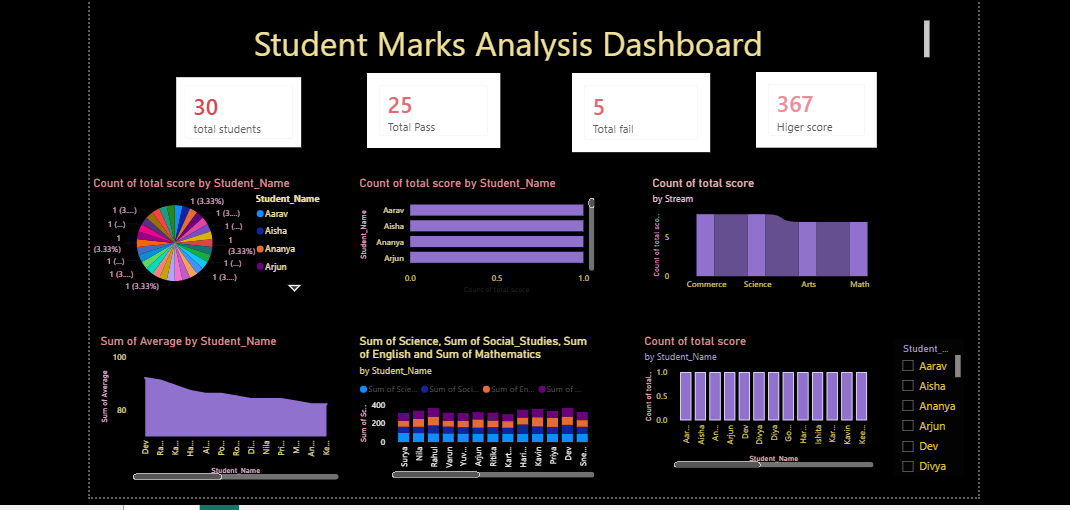

What the dashboard file says about the page in this screenshot:
{"tool":"powerbi","page":{"name":"Page 1","canvas":[1280,720],"ordinal":0},"visuals":[{"type":"pieChart","fields":{"Category":["student_marks_dataset_200.Student_Name"],"Y":["CountNonNull(student_marks_dataset_200.total score)"]},"box":[0,257.8,352.8,174.2],"z":0},{"type":"areaChart","fields":{"Category":["student_marks_dataset_200.Student_Name"],"Y":["Sum(student_marks_dataset_200.Average)"]},"box":[10.1,485.3,352.8,214.6],"z":1000},{"type":"barChart","fields":{"Category":["student_marks_dataset_200.Student_Name"],"Y":["CountNonNull(student_marks_dataset_200.total score)"]},"box":[383,257.8,348.5,174.2],"z":2000},{"type":"columnChart","fields":{"Category":["student_marks_dataset_200.Student_Name"],"Y":["Sum(student_marks_dataset_200.Sciencesssss)","Sum(student_marks_dataset_200.Social_Studies)","Sum(student_marks_dataset_200.English)","Sum(student_marks_dataset_200.Mathematics)"]},"box":[383,485.3,348.5,211.7],"z":3000},{"type":"lineClusteredColumnComboChart","fields":{"Y":["CountNonNull(student_marks_dataset_200.total score)"],"Category":["student_marks_dataset_200.Student_Name"]},"box":[793.4,485.3,339.8,197.3],"z":4000},{"type":"slicer","fields":{"Values":["student_marks_dataset_200.Student_Name"]},"box":[1157.8,492.5,100.8,197.3],"z":5000},{"type":"textbox","box":[0,28.8,1213.9,67.7],"z":6000},{"type":"cardVisual","fields":{"Data":["student_marks_dataset_200.total students"]},"box":[118.1,109.4,193,113.8],"z":7000},{"type":"cardVisual","fields":{"Data":["student_marks_dataset_200.Total Pass"]},"box":[398.9,109.4,191.5,108],"z":8000},{"type":"cardVisual","fields":{"Data":["student_marks_dataset_200.Total fail"]},"box":[694.1,109.4,198.7,113.8],"z":9000},{"type":"ribbonChart","fields":{"Category":["student_marks_dataset_200.Stream"],"Y":["CountNonNull(student_marks_dataset_200.total score)"]},"box":[805,257.8,352.8,174.2],"z":10000},{"type":"cardVisual","fields":{"Data":["Max(student_marks_dataset_200.total score)"]},"box":[959,108,174.2,109.4],"z":11000}]}

Visuals, with their boxes on the page's 1280x720 design canvas (x1, y1, x2, y2). These are canvas units, not pixel positions in the 1070x510 screenshot, which may show the page scaled, cropped or inside an application window:
pieChart - student_marks_dataset_200.Student_Name x CountNonNull(student_marks_dataset_200.total score): select_region(0, 258, 353, 432)
areaChart - student_marks_dataset_200.Student_Name x Sum(student_marks_dataset_200.Average): select_region(10, 485, 363, 700)
barChart - student_marks_dataset_200.Student_Name x CountNonNull(student_marks_dataset_200.total score): select_region(383, 258, 732, 432)
columnChart - student_marks_dataset_200.Student_Name x Sum(student_marks_dataset_200.Sciencesssss): select_region(383, 485, 732, 697)
lineClusteredColumnComboChart - CountNonNull(student_marks_dataset_200.total score) x student_marks_dataset_200.Student_Name: select_region(793, 485, 1133, 683)
slicer - student_marks_dataset_200.Student_Name: select_region(1158, 492, 1259, 690)
textbox: select_region(0, 29, 1214, 96)
cardVisual - student_marks_dataset_200.total students: select_region(118, 109, 311, 223)
cardVisual - student_marks_dataset_200.Total Pass: select_region(399, 109, 590, 217)
cardVisual - student_marks_dataset_200.Total fail: select_region(694, 109, 893, 223)
ribbonChart - student_marks_dataset_200.Stream x CountNonNull(student_marks_dataset_200.total score): select_region(805, 258, 1158, 432)
cardVisual - Max(student_marks_dataset_200.total score): select_region(959, 108, 1133, 217)
